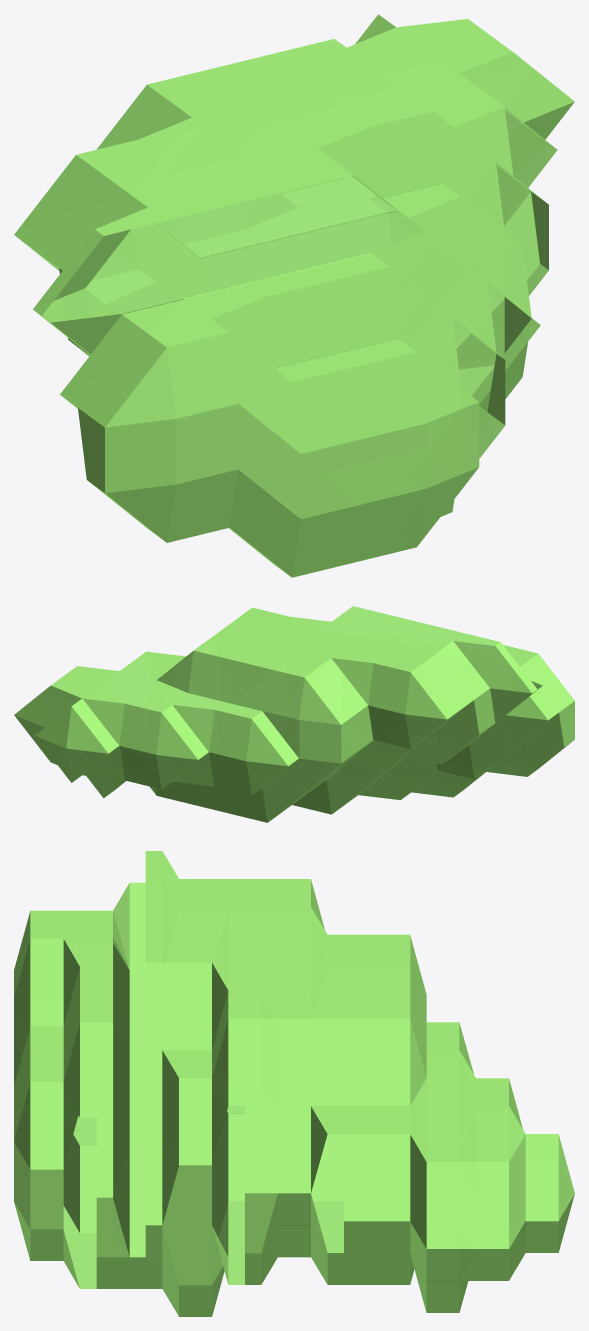
File: SVV_BWM-VL07.gltf
The picture shows the model from 3 angles, top to bottom: view 1: azimuth 30°, elevation 25°; view 2: azimuth 150°, elevation 25°; view 3: azimuth 270°, elevation 25°; orthographic projection. The views are drawn at different scales.
Visible parts, largest first — view 1: BWM-VL07; view 2: BWM-VL07; view 3: BWM-VL07.
Boxes of the visible parts, left/top/right/bottom form: BWM-VL07: left=14, top=14, right=574, bottom=577; BWM-VL07: left=14, top=606, right=574, bottom=822; BWM-VL07: left=14, top=851, right=574, bottom=1316.
Bounding box in the file's own units: 5629 × 2555 × 4353.
